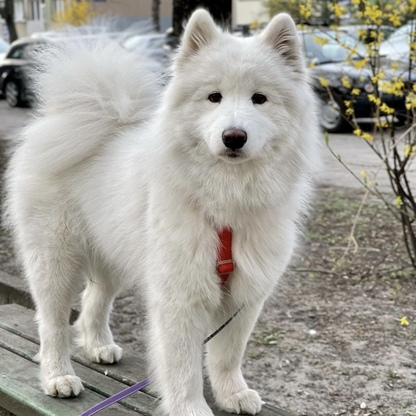samoyed: (1, 5, 328, 416)
